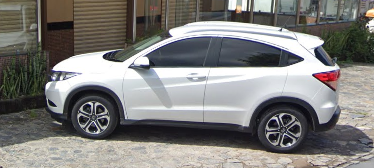car: (44, 8, 346, 154)
